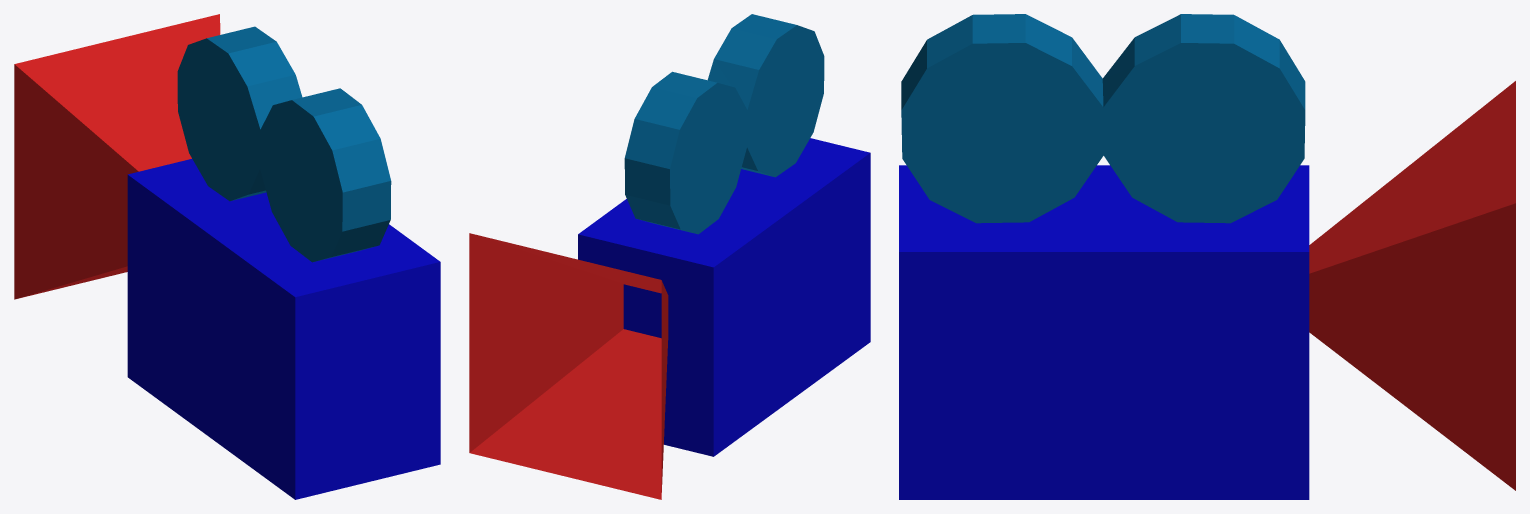
File: INVISIBLE_SPCCCAMVOB.OBJ
3 views of the same model, side by side, from view 1: azimuth 30°, elevation 25°; view 2: azimuth 150°, elevation 25°; view 3: azimuth 270°, elevation 25° (orthographic). The views are drawn at different scales.
Visible parts, largest first — view 1: INVISIBLE_SPCCCAMVOB; view 2: INVISIBLE_SPCCCAMVOB; view 3: INVISIBLE_SPCCCAMVOB.
Boxes of the visible parts, left/top/right/bottom form: INVISIBLE_SPCCCAMVOB: left=14, top=14, right=440, bottom=499; INVISIBLE_SPCCCAMVOB: left=469, top=14, right=870, bottom=499; INVISIBLE_SPCCCAMVOB: left=899, top=14, right=1515, bottom=499.
Size of the model in its own units: 0.4244 by 0.6911 by 0.9023.
